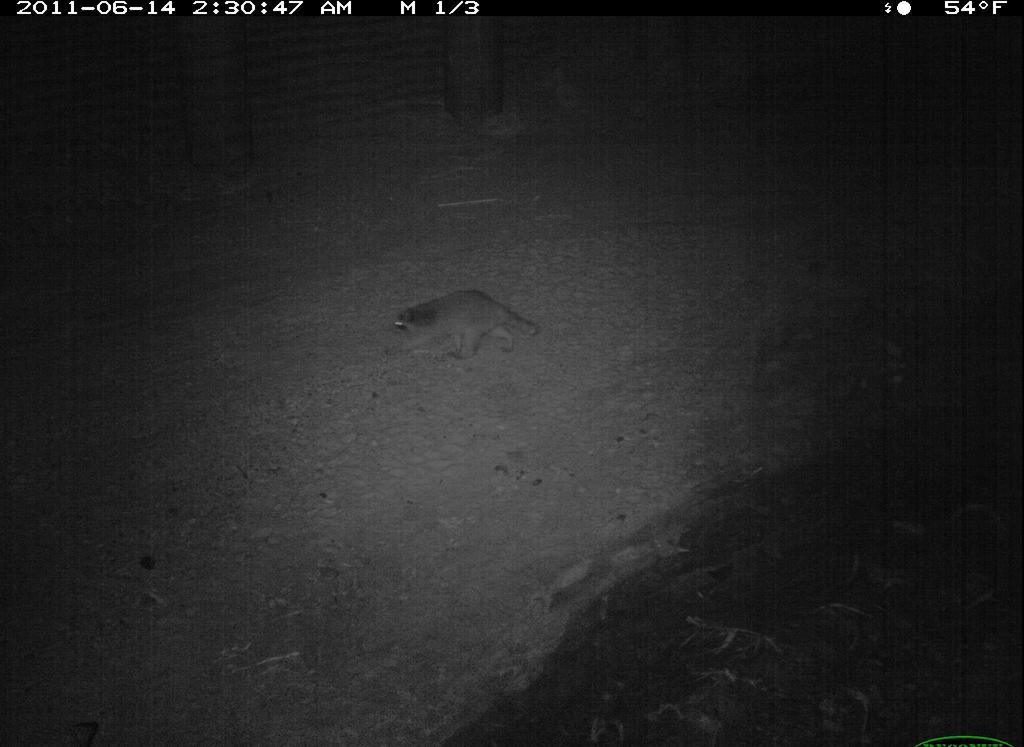raccoon: (390, 280, 546, 367)
